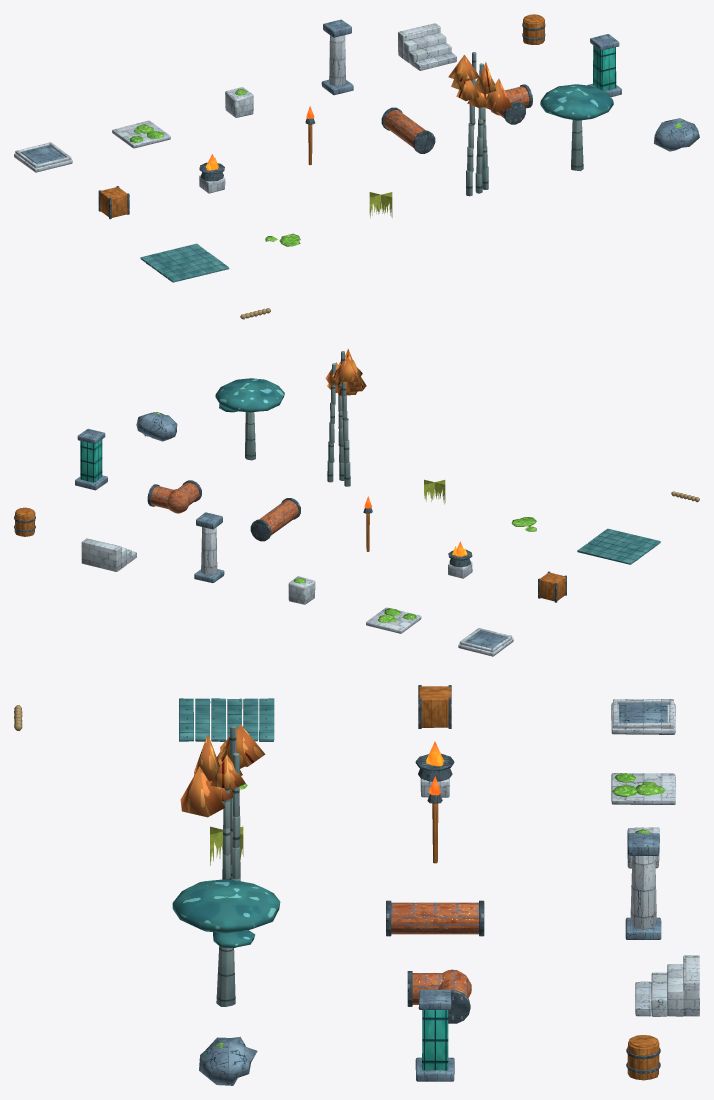
The model's file is TalasPaintedKit.fbx.
The picture shows the model from 3 angles, top to bottom: view 1: azimuth 30°, elevation 25°; view 2: azimuth 150°, elevation 25°; view 3: azimuth 270°, elevation 25°; orthographic projection. The views are drawn at different scales.
Visible parts, largest first — view 1: BambooTree, MushroomTree, Steps, DockPlank, Pillar, LanternCage, PipeStraight, SlabStone, Boulder, SlabStoneMoss, PipeElbow, Crate (+4 smaller); view 2: BambooTree, MushroomTree, DockPlank, LanternCage, Pillar, Steps, PipeElbow, PipeStraight, SlabStone, Boulder, SlabStoneMoss, Crate (+3 smaller); view 3: MushroomTree, BambooTree, DockPlank, PipeStraight, Steps, Pillar, LanternCage, SlabStone, SlabStoneMoss, Boulder, PipeElbow, Crate (+3 smaller).
Part boxes in pixels (x1,y1,x2,y2): BambooTree: (448,52,512,196); MushroomTree: (540,84,613,171); Steps: (398,23,456,70); DockPlank: (140,243,229,282); Pillar: (321,19,353,95); LanternCage: (587,34,621,97); PipeStraight: (381,107,435,153); SlabStone: (14,142,72,172); Boulder: (654,118,699,151); SlabStoneMoss: (112,120,170,148); PipeElbow: (490,84,532,124); Crate: (98,186,129,219); BambooTree: (325,349,366,486); MushroomTree: (215,378,284,460); DockPlank: (577,528,660,564); LanternCage: (75,428,107,490); Pillar: (194,512,224,582); Steps: (81,538,136,571); PipeElbow: (147,480,201,513); PipeStraight: (250,498,300,541); SlabStone: (458,628,513,656); Boulder: (136,412,177,441); SlabStoneMoss: (366,607,421,633); Crate: (538,571,566,602); MushroomTree: (172,879,280,1006); BambooTree: (180,725,265,881); DockPlank: (179,698,274,741); PipeStraight: (386,900,484,936); Steps: (635,955,699,1016); Pillar: (625,833,661,939); LanternCage: (415,989,454,1081); SlabStone: (611,699,675,734); SlabStoneMoss: (611,773,675,804); Boulder: (199,1036,257,1085); PipeElbow: (407,969,471,1023); Crate: (418,685,451,728).
Bounding box in the file's own units: 28.61 × 7.2 × 21.39.
